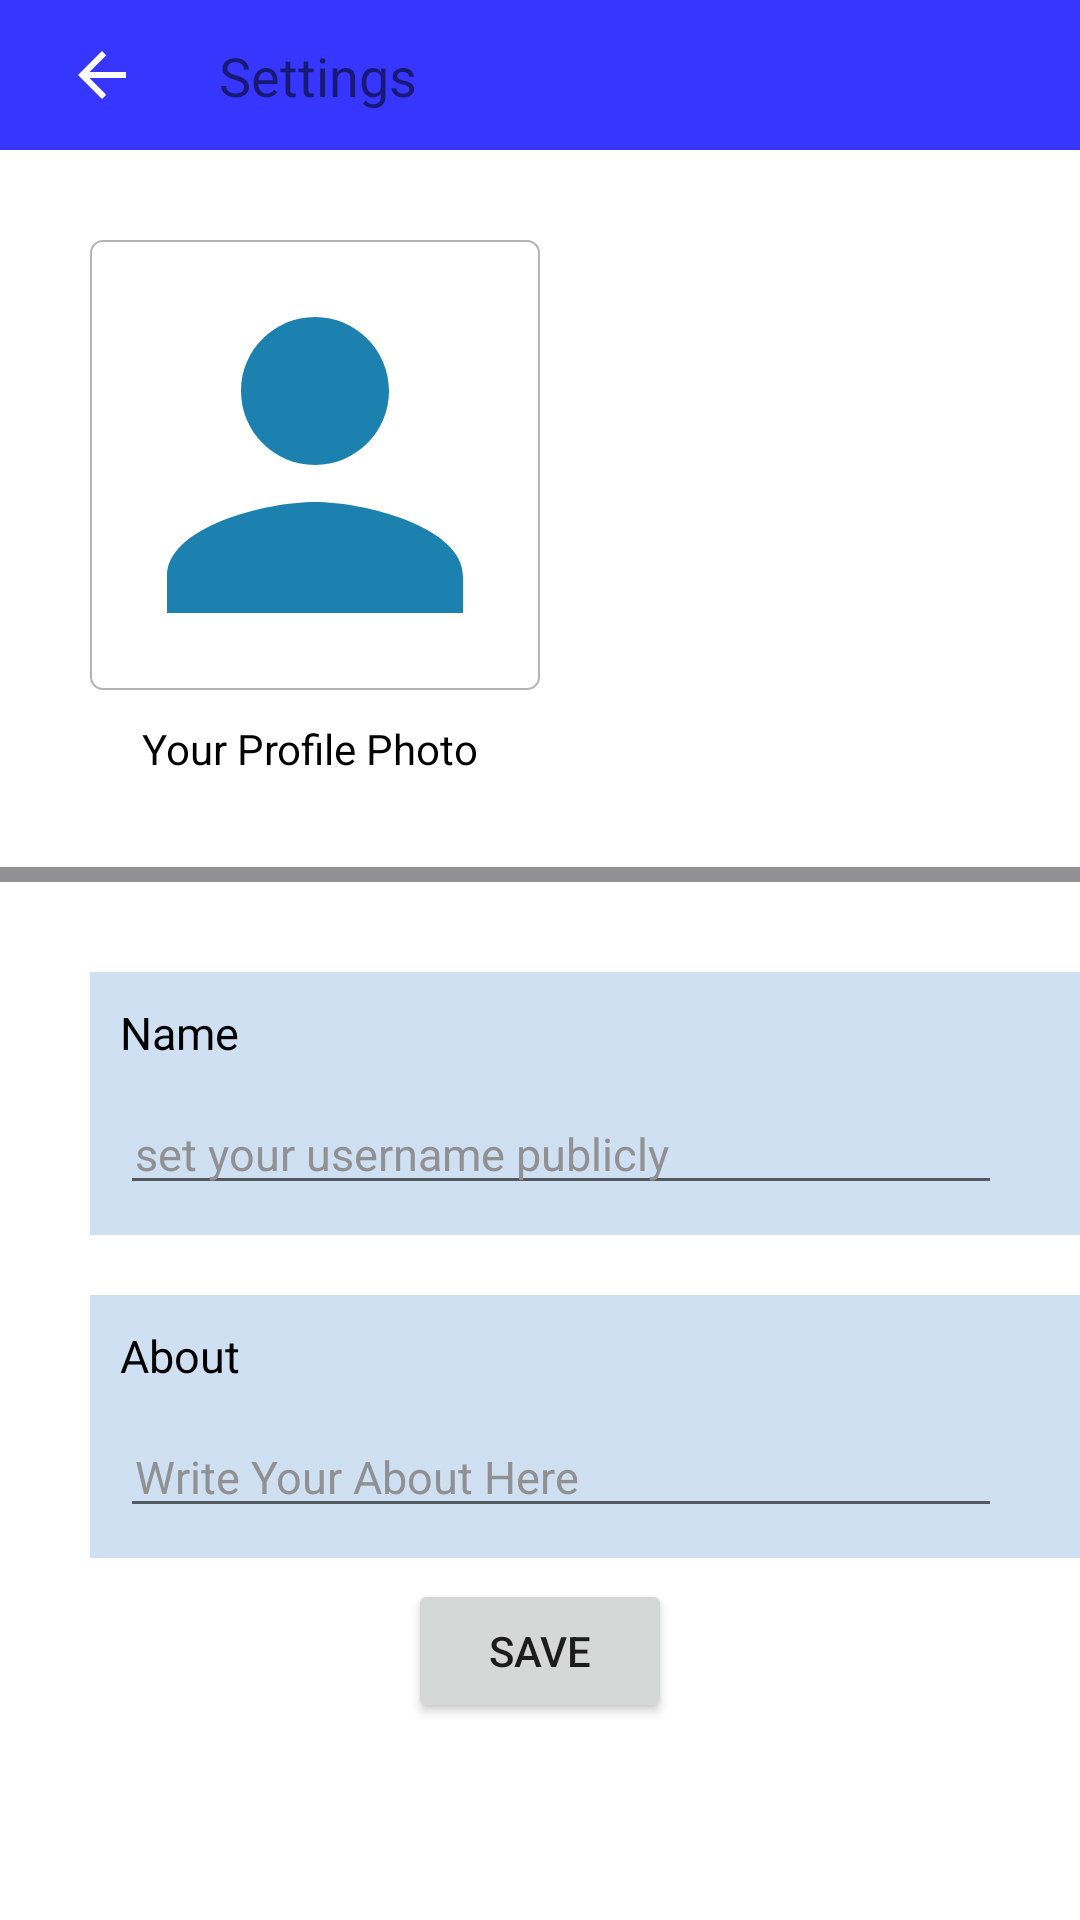

Icons on this 1080w x 1920h Android screen, each with its box as bbox=(x1, y1, x2, y2):
arrow back: bbox=(78, 51, 126, 99)
